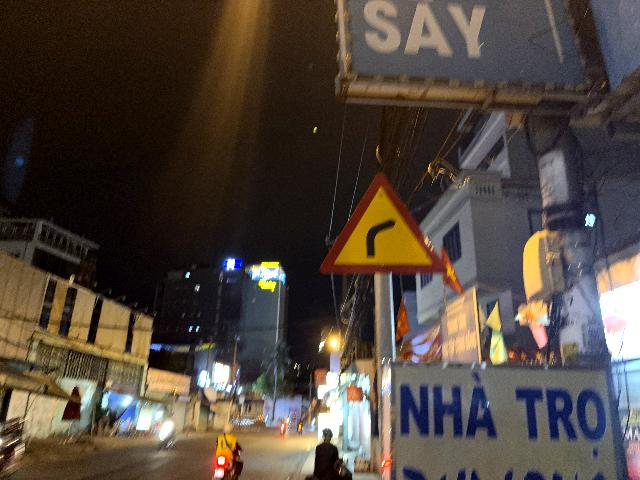cho-ngoat-nguy-hiem-ben-phai: (320, 171, 448, 274)
